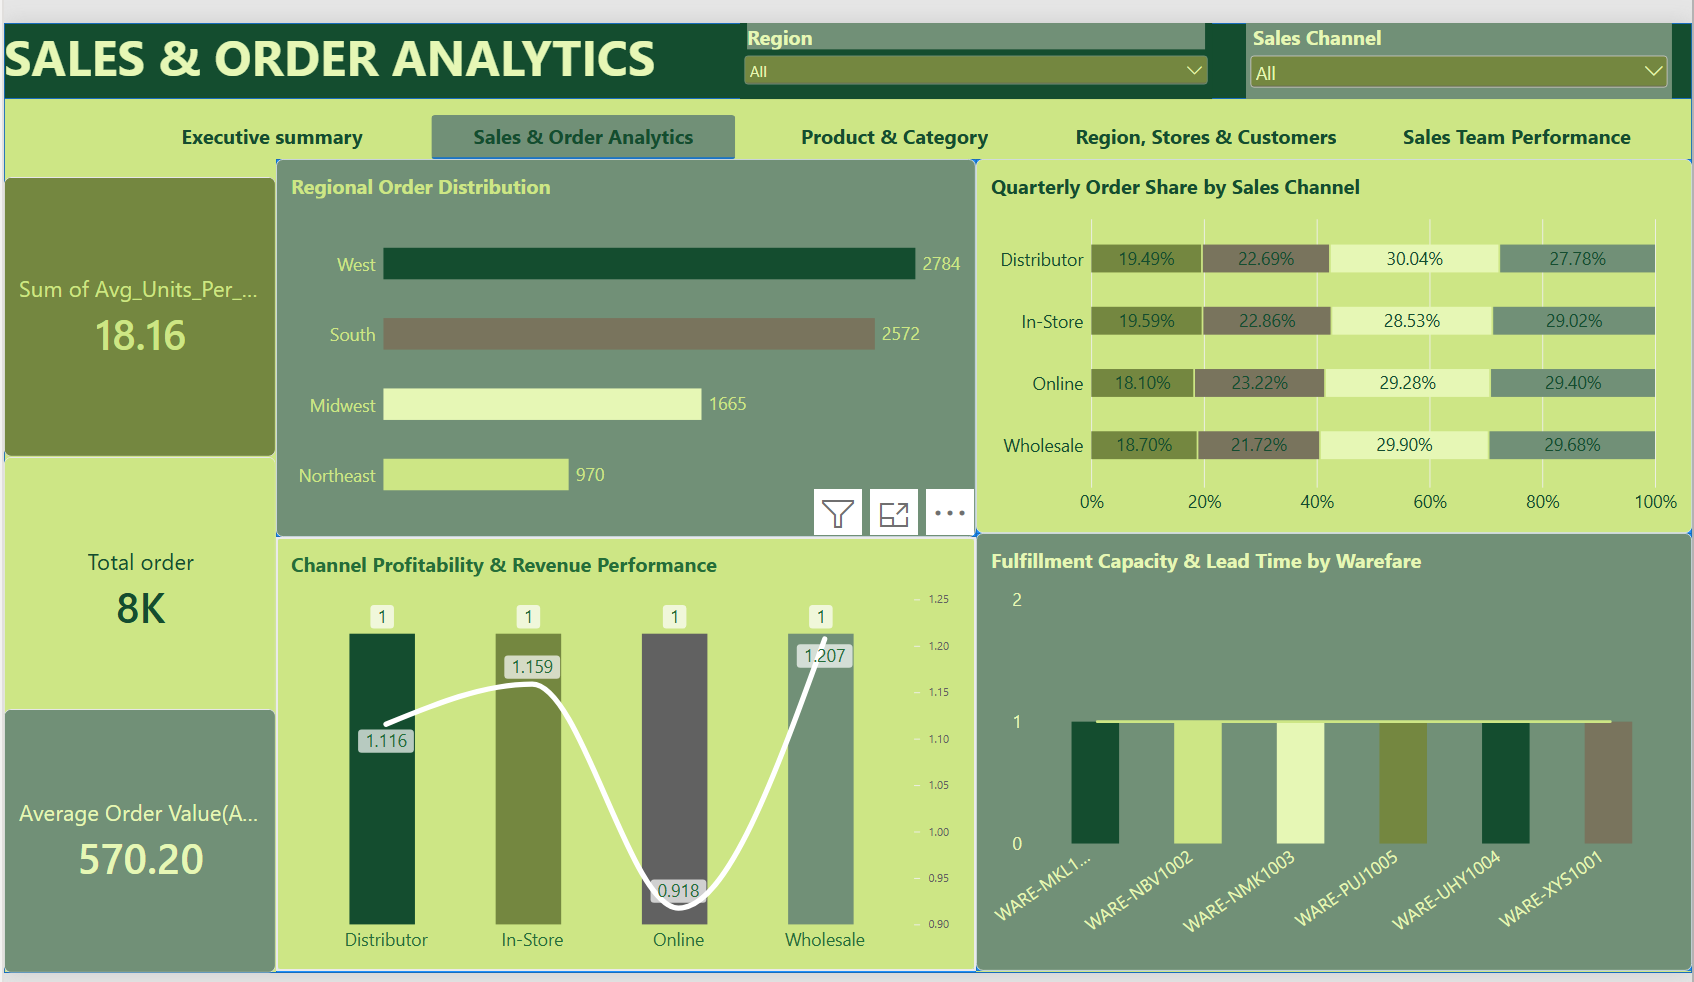

The page's visual inventory and layout, read from the dashboard file:
{"tool":"powerbi","page":{"name":"Sales & Order Analytics","canvas":[1920,1080],"ordinal":1},"visuals":[{"type":"shape","box":[0,0,1920,1080.6],"z":0},{"type":"shape","box":[0,0,1920,86.4],"z":1000},{"type":"cardVisual","fields":{"Data":["oyinkansola customer_usa.Total order"]},"box":[0,493.6,309.4,302.6],"z":2000},{"type":"cardVisual","fields":{"Data":["Sum(Query6.Avg_Units_Per_Order)"]},"box":[0,175.2,309.4,318.5],"z":3000},{"type":"shape","box":[309.4,584.6,796.2,495.9],"z":4000},{"type":"shape","box":[309.4,154.7,796.2,430],"z":5000},{"type":"shape","box":[1105.6,154.7,814.4,430],"z":6000},{"type":"shape","box":[1105.6,580.1,814.4,498.2],"z":7000},{"type":"textbox","title":"SALES & ORDER ANALYTICS","box":[0,0,618.8,86.4],"z":8000},{"type":"clusteredBarChart","title":"Regional Order Distribution","fields":{"Category":["Query10.Region"],"Y":["oyinkansola customer_usa.Total order"]},"box":[309.4,154.7,796.2,430],"z":9000},{"type":"lineClusteredColumnComboChart","title":"Fulfillment Capacity & Lead Time by Warefare","fields":{"Category":["Query7.WarehouseCode"],"Y":["CountNonNull(Query7.Total_Orders)"],"Y2":["CountNonNull(Query7.Avg_Delivery_Days)"]},"box":[1105.6,580.1,814.4,498.2],"z":10000},{"type":"lineStackedColumnComboChart","title":"Channel Profitability & Revenue Performance","fields":{"Category":["Query1.Sales Channel"],"Y":["CountNonNull(Query1.Total_Revenue)"],"Y2":["oyinkansola customer_usa.Profit Margin %"]},"box":[309.4,584.6,796.2,493.6],"z":11000},{"type":"hundredPercentStackedBarChart","title":"Quarterly Order Share by Sales Channel","fields":{"Category":["Query1.Sales Channel"],"Series":["oyinkansola sales_order_usa.orderDate.Variation.Date Hierarchy.Quarter"],"Y":["CountNonNull(oyinkansola sales_order_usa.OrderNumber)"]},"box":[1105.6,154.7,814.4,425.4],"z":12000},{"type":"slicer","fields":{"Values":["Query10.Region"]},"box":[837.2,0,536.9,86.4],"z":13000},{"type":"slicer","fields":{"Values":["Query6.Sales Channel"]},"box":[1412.7,0,484.5,86.4],"z":14000},{"type":"pageNavigator","box":[131.9,104.6,1765.3,50],"z":15000},{"type":"cardVisual","fields":{"Data":["oyinkansola customer_usa.Average Order Value(AOV)"]},"box":[0,780.3,309.4,300.3],"z":16000}]}

Visuals, with their boxes in screenshot pixels (x1, y1, x2, y2), scaled from the page's 1920x1080 canvas onto the 1694x982 screenshot:
shape: <bbox>0, 0, 1693, 981</bbox>
shape: <bbox>0, 0, 1693, 79</bbox>
cardVisual - oyinkansola customer_usa.Total order: <bbox>0, 449, 273, 724</bbox>
cardVisual - Sum(Query6.Avg_Units_Per_Order): <bbox>0, 159, 273, 449</bbox>
shape: <bbox>273, 532, 975, 981</bbox>
shape: <bbox>273, 141, 975, 532</bbox>
shape: <bbox>975, 141, 1693, 532</bbox>
shape: <bbox>975, 527, 1693, 980</bbox>
"SALES & ORDER ANALYTICS" textbox: <bbox>0, 0, 546, 79</bbox>
"Regional Order Distribution" clusteredBarChart: <bbox>273, 141, 975, 532</bbox>
"Fulfillment Capacity & Lead Time by Warefare" lineClusteredColumnComboChart: <bbox>975, 527, 1693, 980</bbox>
"Channel Profitability & Revenue Performance" lineStackedColumnComboChart: <bbox>273, 532, 975, 980</bbox>
"Quarterly Order Share by Sales Channel" hundredPercentStackedBarChart: <bbox>975, 141, 1693, 527</bbox>
slicer - Query10.Region: <bbox>739, 0, 1212, 79</bbox>
slicer - Query6.Sales Channel: <bbox>1246, 0, 1674, 79</bbox>
pageNavigator: <bbox>116, 95, 1674, 141</bbox>
cardVisual - oyinkansola customer_usa.Average Order Value(AOV): <bbox>0, 709, 273, 981</bbox>
